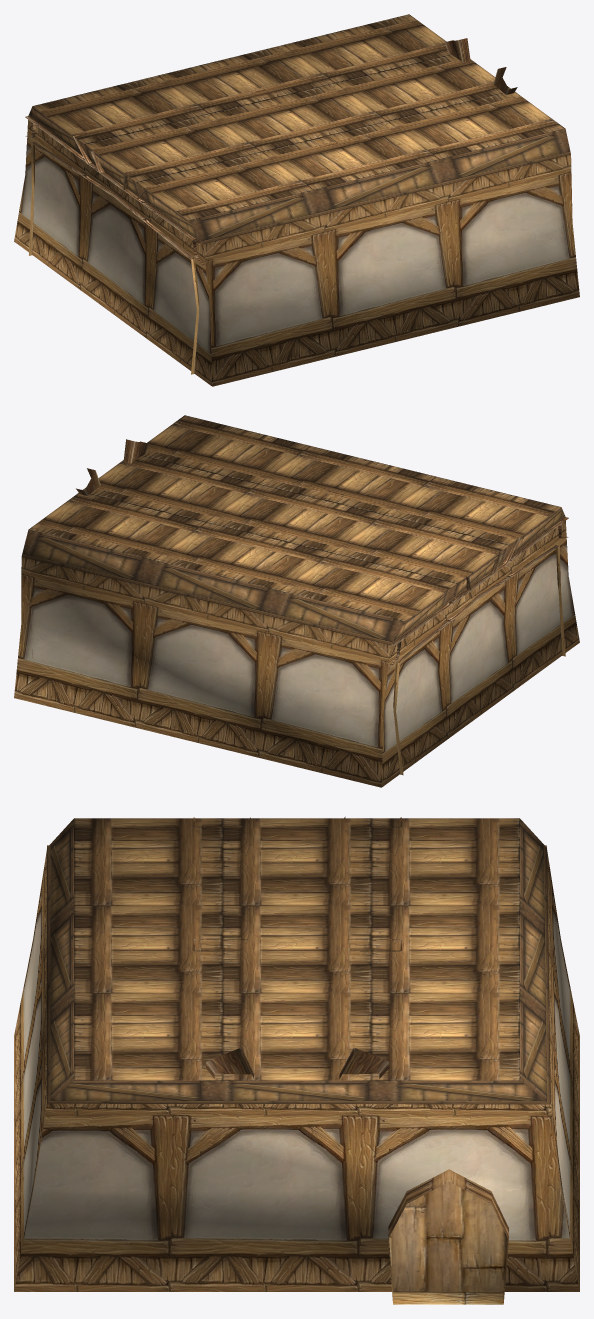
Rendered from stormwind_077.fbx.
The picture shows the model from 3 angles, top to bottom: view 1: azimuth 30°, elevation 25°; view 2: azimuth 150°, elevation 25°; view 3: azimuth 270°, elevation 25°; orthographic projection. The views are drawn at different scales.
Parts seen in each view (by area): view 1: stormwind_077_48, stormwind_077_55, stormwind_077_56, stormwind_077_53; view 2: stormwind_077_48, stormwind_077_55, stormwind_077_56, stormwind_077_53; view 3: stormwind_077_55, stormwind_077_48, stormwind_077_56, stormwind_077_51, stormwind_077_53, stormwind_077_49.
Boxes of the visible parts, x1,y1,x2,y2 form: stormwind_077_48: [14, 120, 579, 386]; stormwind_077_55: [33, 14, 564, 220]; stormwind_077_56: [28, 106, 570, 243]; stormwind_077_53: [25, 38, 517, 374]; stormwind_077_48: [14, 521, 579, 787]; stormwind_077_55: [29, 415, 560, 621]; stormwind_077_56: [21, 507, 565, 644]; stormwind_077_53: [29, 439, 568, 775]; stormwind_077_55: [74, 818, 519, 1080]; stormwind_077_48: [14, 850, 579, 1291]; stormwind_077_56: [47, 819, 550, 1104]; stormwind_077_51: [389, 1182, 507, 1291]; stormwind_077_53: [47, 816, 575, 1304]; stormwind_077_49: [388, 1169, 508, 1302].
Size of the model in its own units: 17.04 by 7.09 by 14.96.
